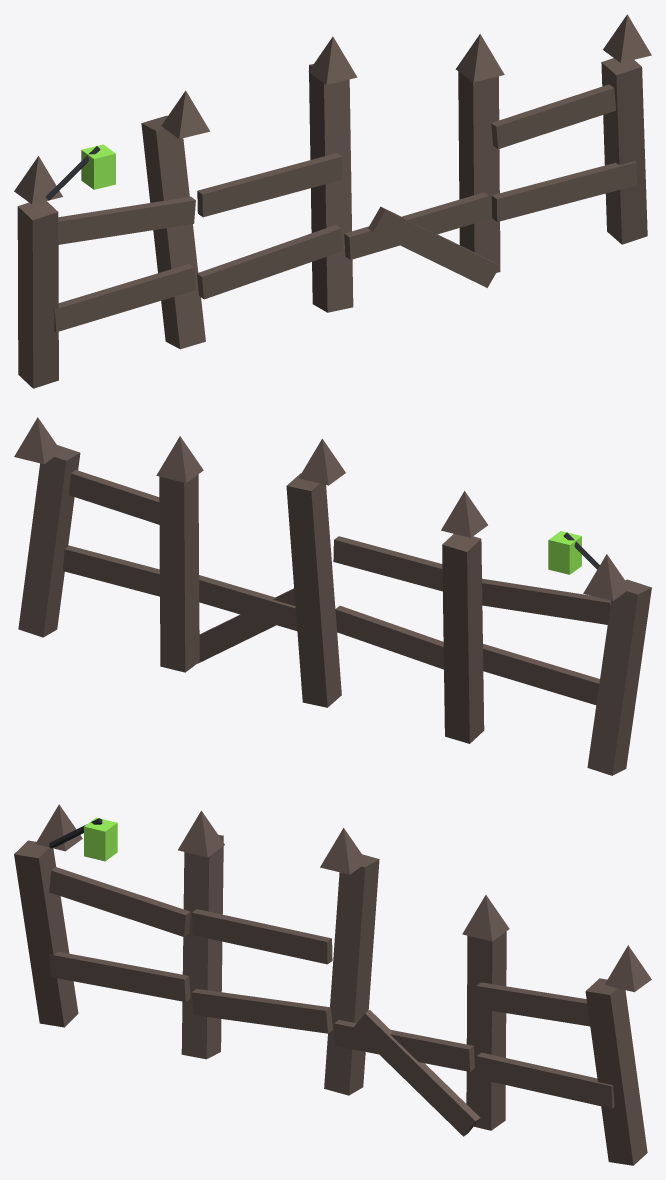
File: BrokenFence.fbx
The picture shows the model from 3 angles, top to bottom: view 1: azimuth 30°, elevation 25°; view 2: azimuth 150°, elevation 25°; view 3: azimuth 330°, elevation 25°; orthographic projection. The views are drawn at different scales.
Visible parts, largest first — view 1: BrokenFence, BrokenFence_Glow; view 2: BrokenFence, BrokenFence_Glow; view 3: BrokenFence, BrokenFence_Glow.
Part boxes in pixels (x1,y1,x2,y2): BrokenFence: (14, 14, 651, 388); BrokenFence_Glow: (81, 144, 115, 189); BrokenFence: (14, 417, 651, 775); BrokenFence_Glow: (548, 531, 581, 574); BrokenFence: (14, 804, 651, 1165); BrokenFence_Glow: (84, 817, 117, 861).
Bounding box in the file's own units: 857 × 357 × 97.34.
Materials: 1 (1 with a texture image).
